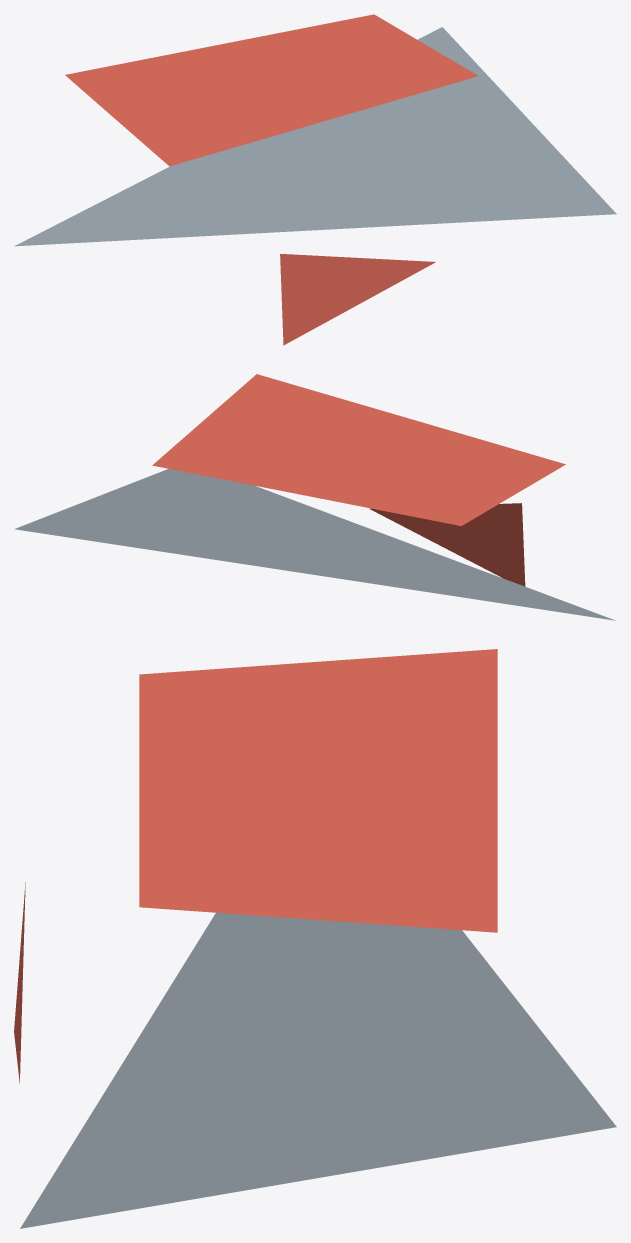
Rendered from SU_GromoboyRam_LOD2.glb.
3 views of the same model, one above another, from view 1: azimuth 30°, elevation 25°; view 2: azimuth 150°, elevation 25°; view 3: azimuth 270°, elevation 25° (orthographic). The views are drawn at different scales.
Visible parts, largest first — view 1: EntranceGate; view 2: EntranceGate; view 3: EntranceGate.
Boxes of the visible parts, left/top/right/bottom form: EntranceGate: left=14, top=14, right=616, bottom=345; EntranceGate: left=14, top=374, right=616, bottom=620; EntranceGate: left=14, top=649, right=616, bottom=1228.
Size of the model in its own units: 580 by 200 by 343.
